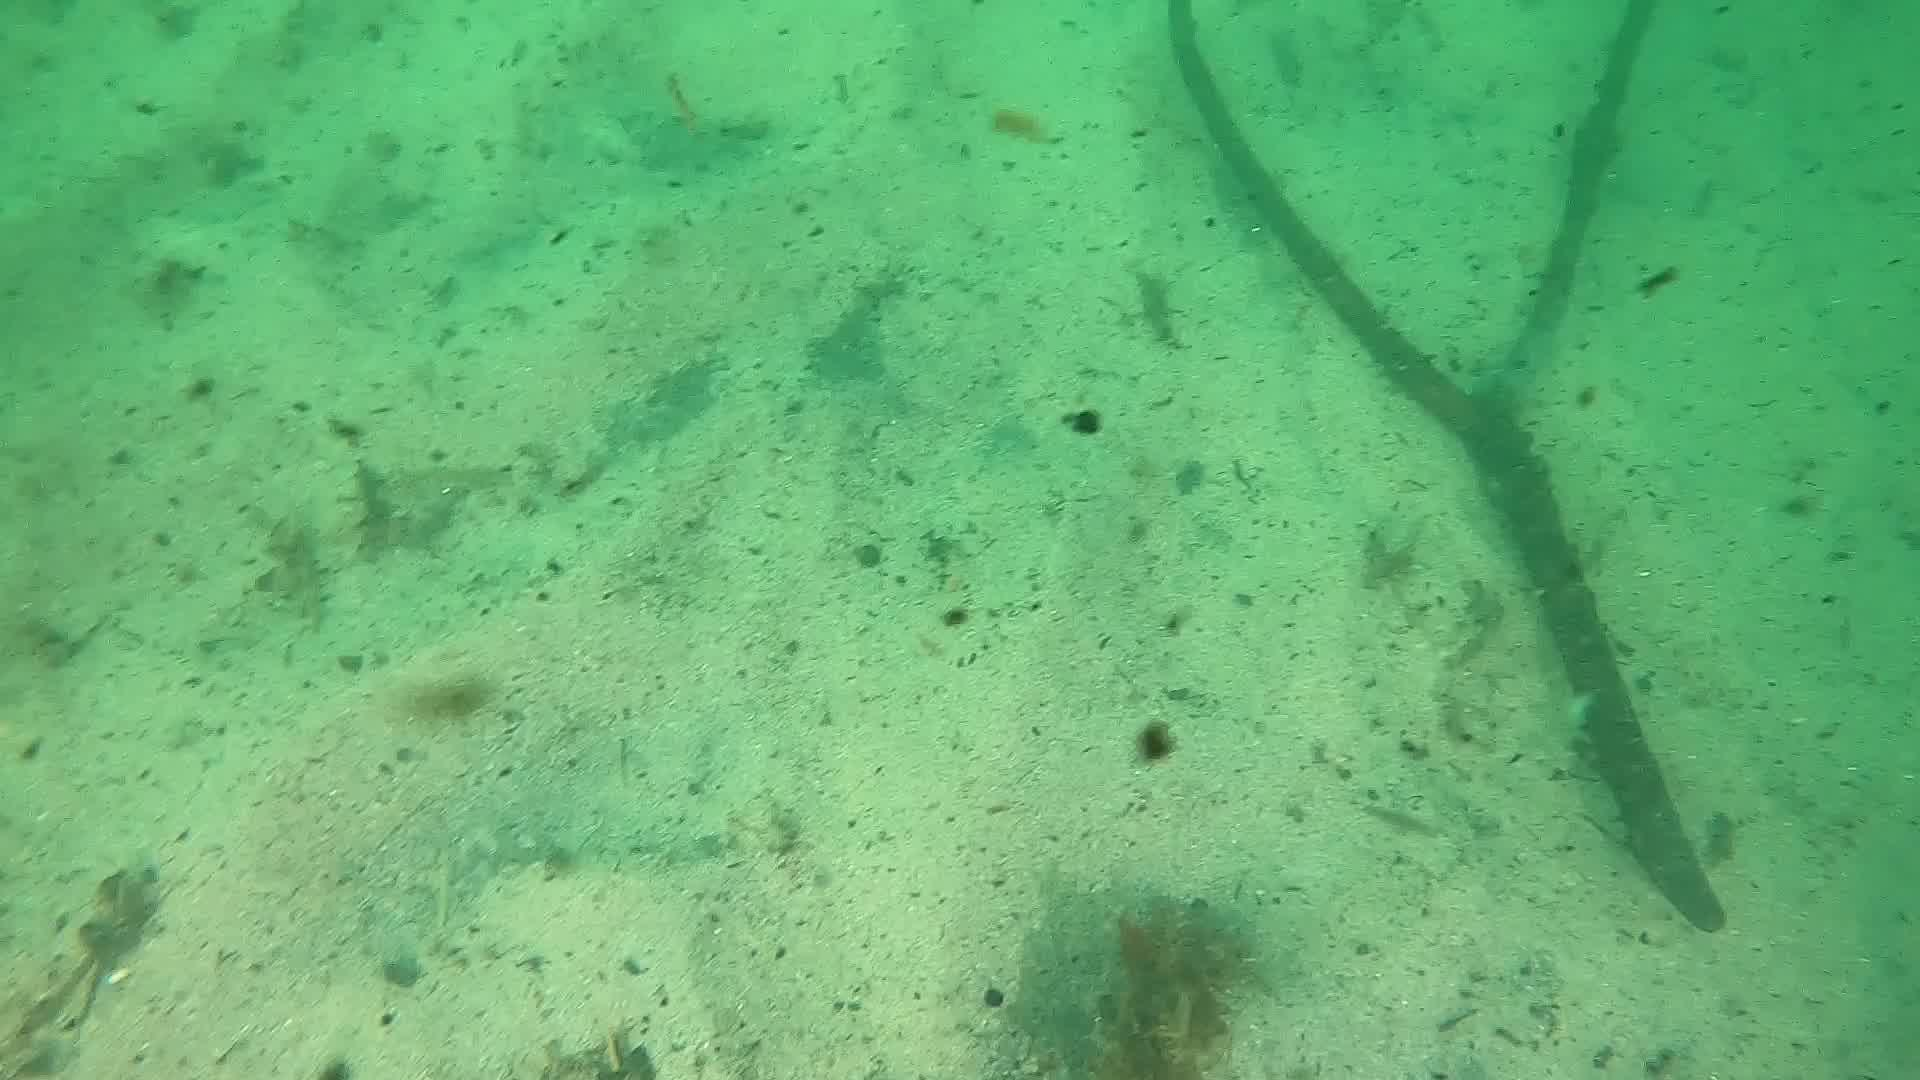wood: (1168, 0, 1727, 928)
